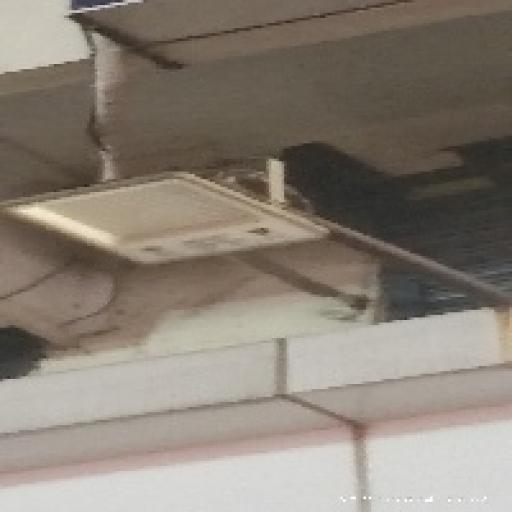Not Working: (0, 134, 342, 303)
